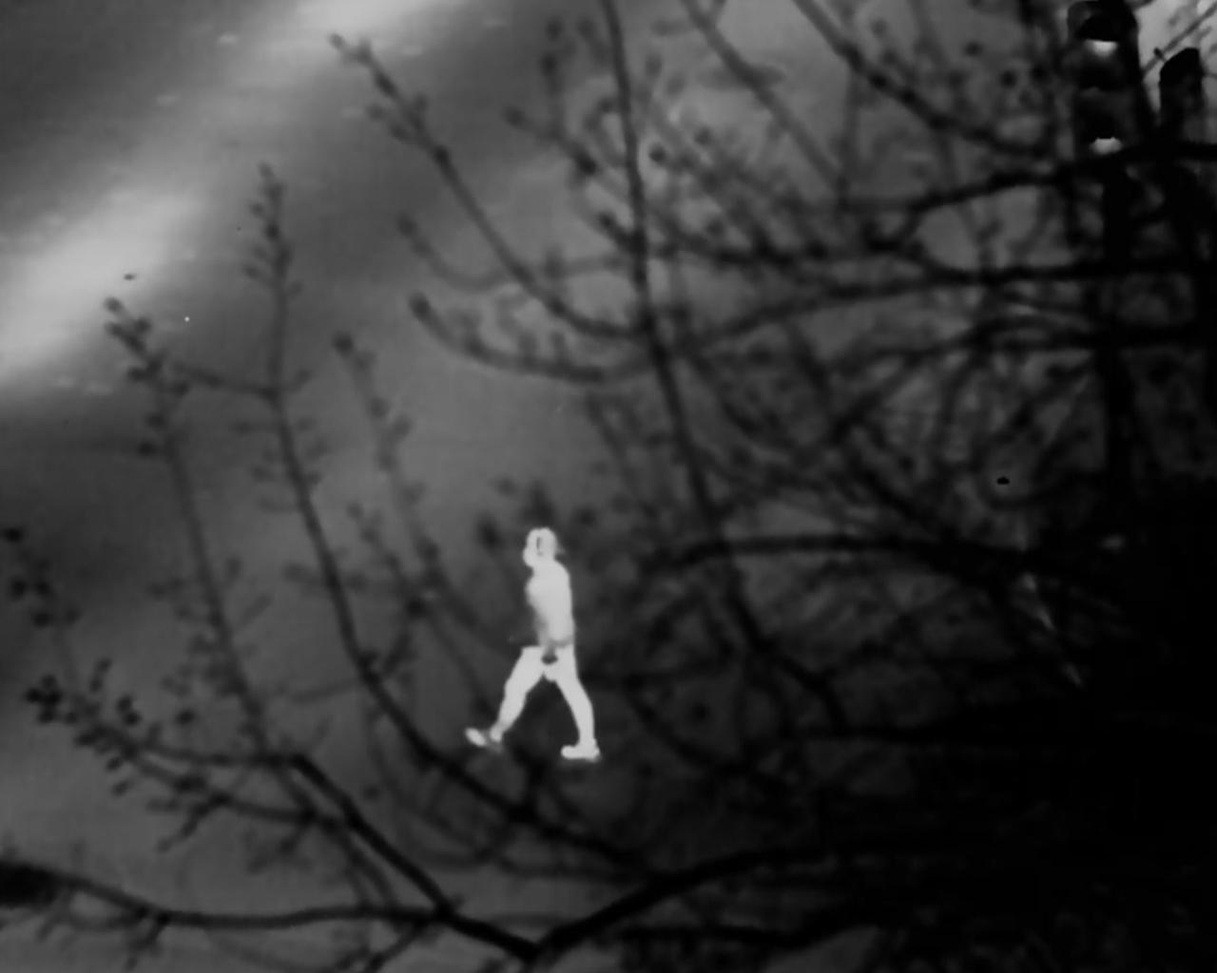person: (479, 524, 594, 764)
